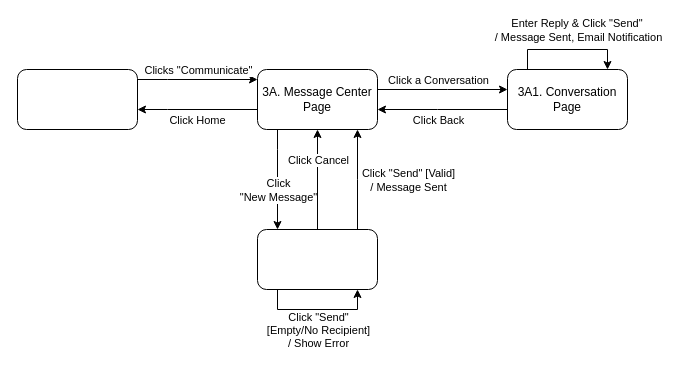
Some shapes in this 679 by 367 pixel diagram are drawn without their labels. Each missing label, with the centre of its shape:
"1A. Home Page mentor" belongs at (77,99).
"3A2. New Message Page" belongs at (317,259).
